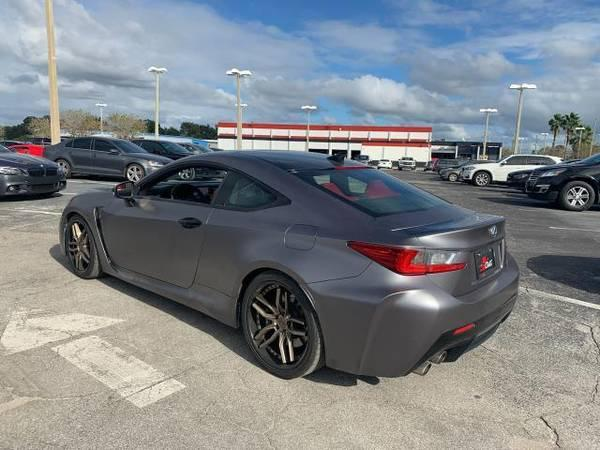Front_Fender: (59, 189, 115, 274)
Front_Left_Door: (96, 195, 215, 299)
Front_Left_Window: (128, 163, 230, 211)
Left_Taillight: (347, 239, 473, 275)
Rear_Bumper: (304, 249, 519, 379)
Rear_Fender: (184, 169, 369, 326)
Rear_Windshield: (282, 166, 446, 214)
Roof: (118, 147, 376, 227)
Tailgate: (348, 198, 507, 292)
Wheel: (239, 274, 322, 383), (62, 216, 99, 277)
